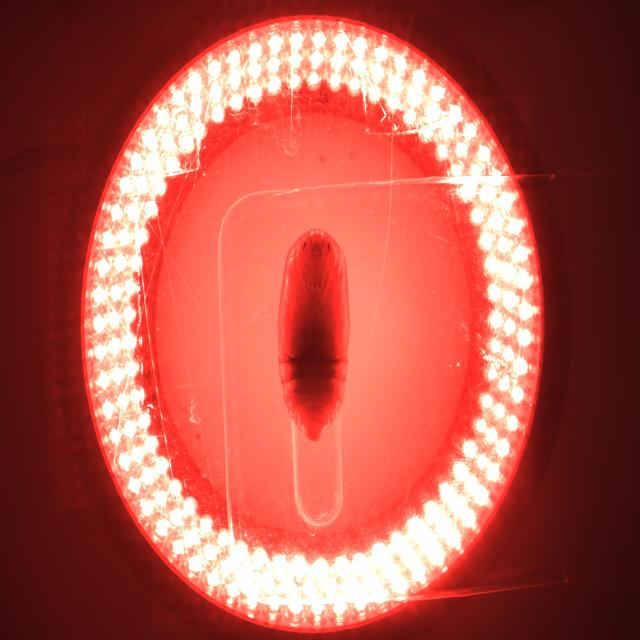female: (309, 422, 319, 432)
